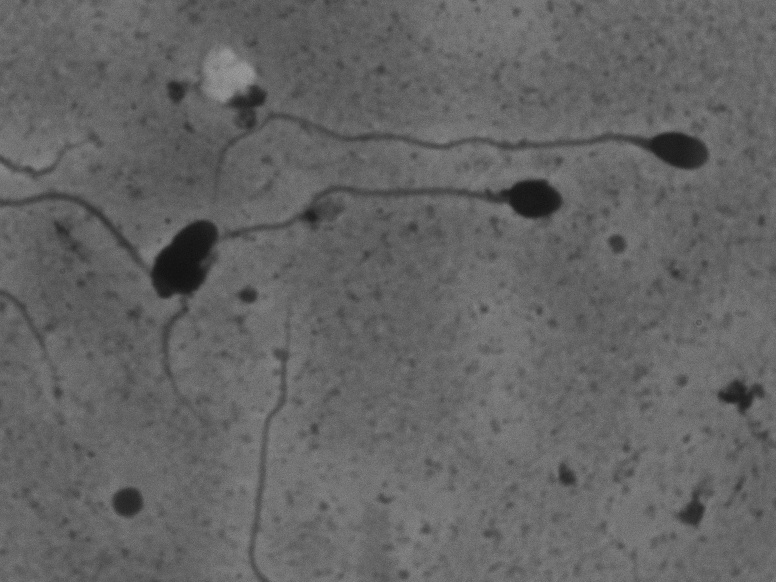Abnormal: (147, 173, 582, 436)
Normal: (260, 77, 724, 178)
